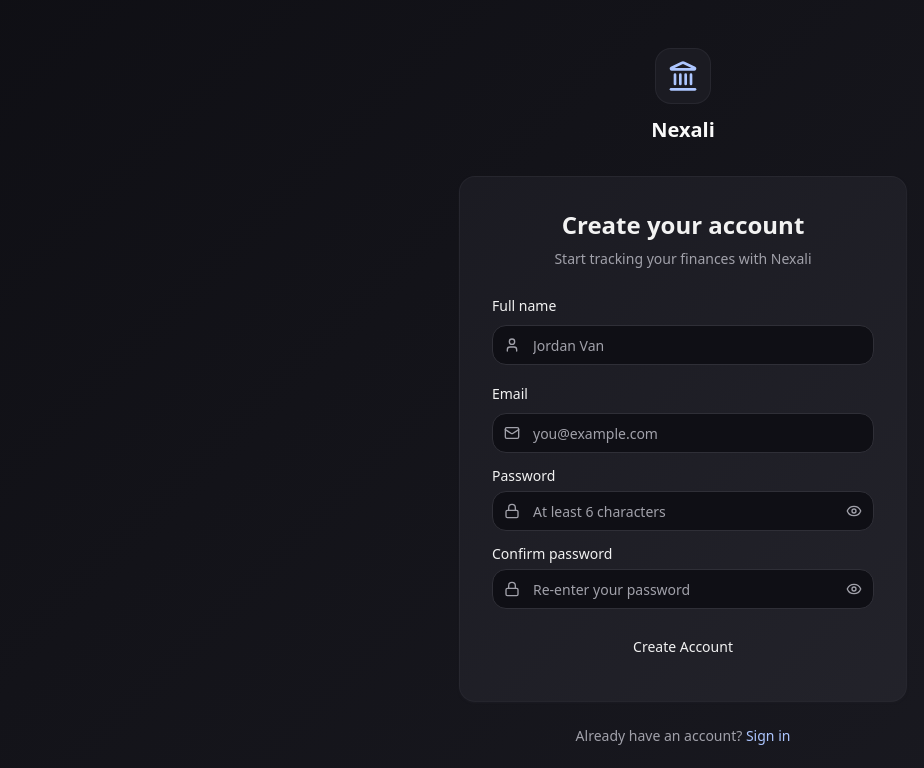
Test: SignUp › shows a user-facing error when Supabase rejects the sign-up
Type "Jane Doe" into the field labelled "Full name" at (683, 345), box x1=492 y1=325 x2=874 y2=365
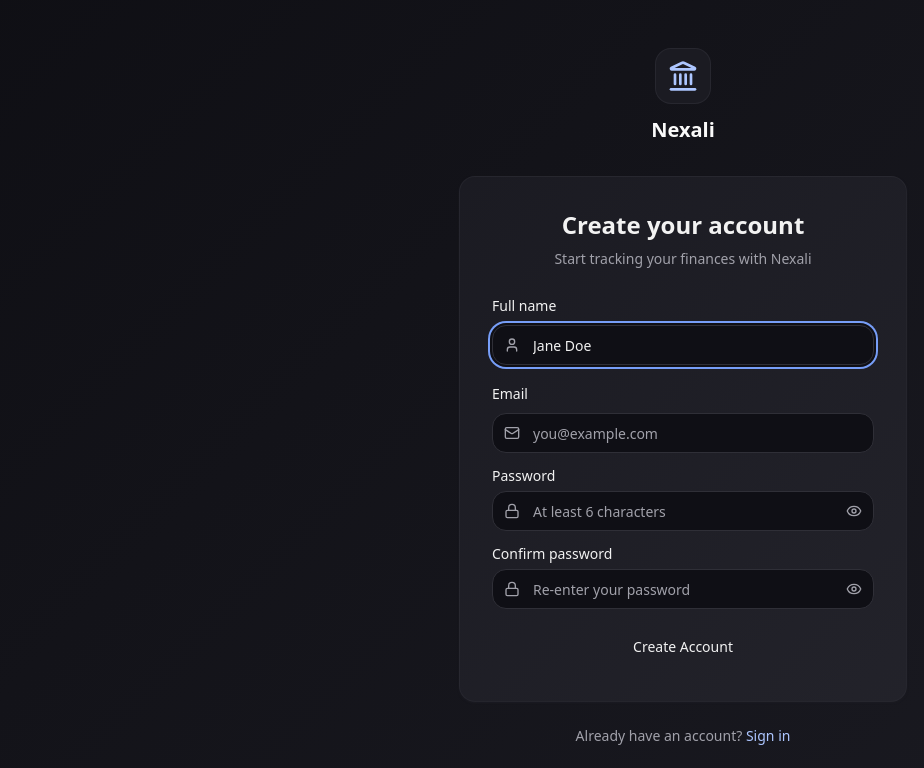
Type "jane@example.com" into the field labelled "Email" at (683, 433), box x1=492 y1=413 x2=874 y2=453
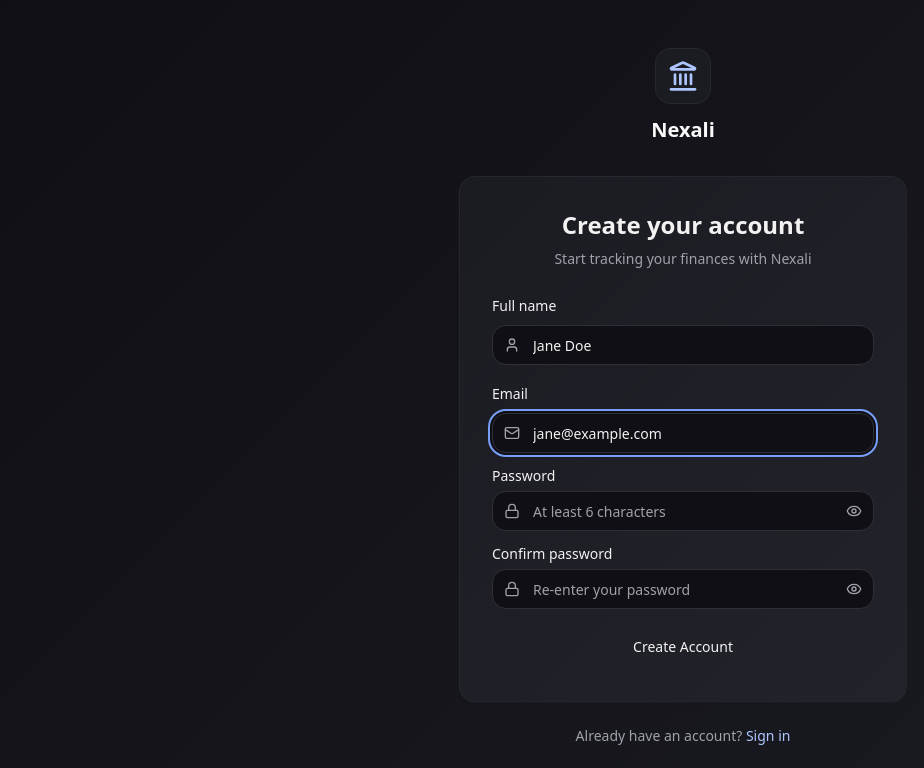
Type "hunter22" into the password field labelled "Password" at (683, 511), box x1=492 y1=491 x2=874 y2=531
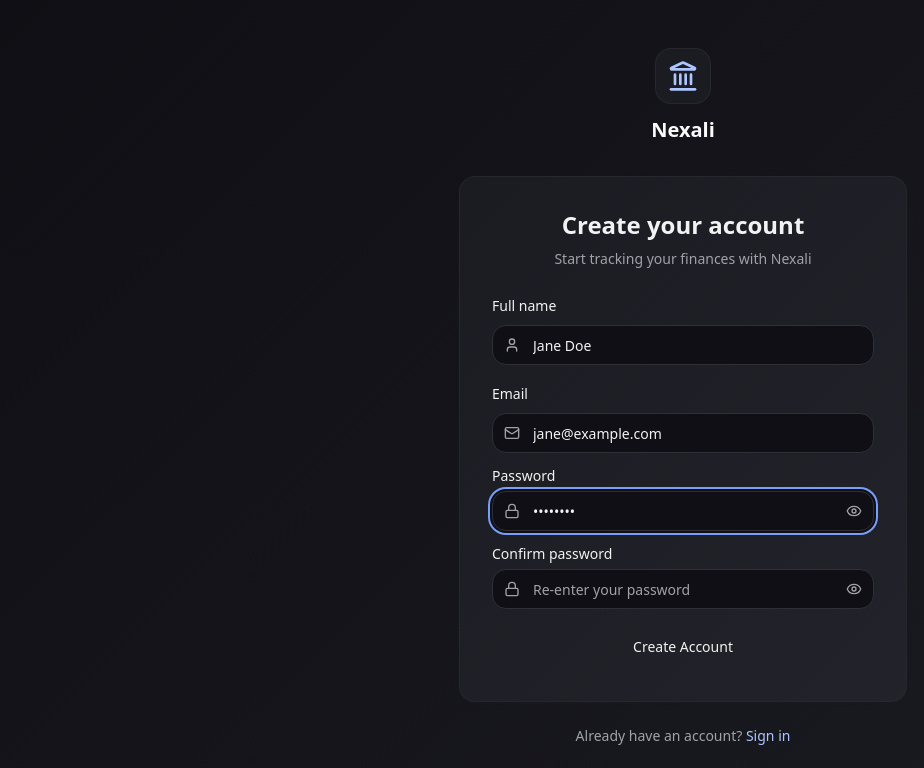
Type "hunter22" into the password field labelled "Confirm password" at (683, 589), box x1=492 y1=569 x2=874 y2=609
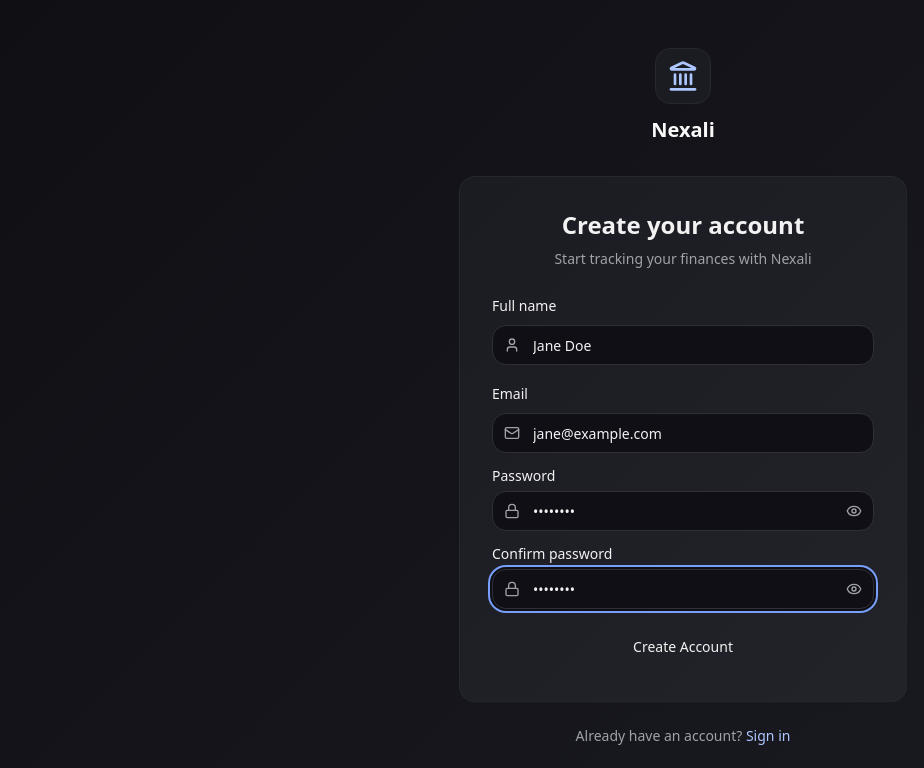
Click the button "Create Account" at (683, 647), box x1=492 y1=625 x2=874 y2=669
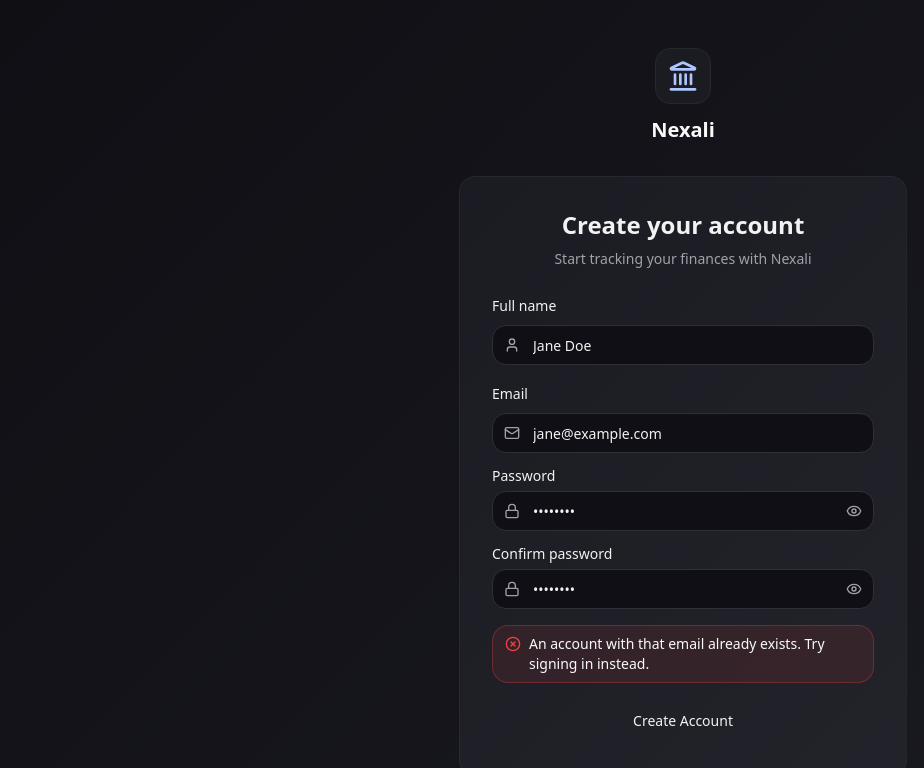
Now the text "account with that email already exists" is shown, box x1=529 y1=634 x2=824 y2=673
